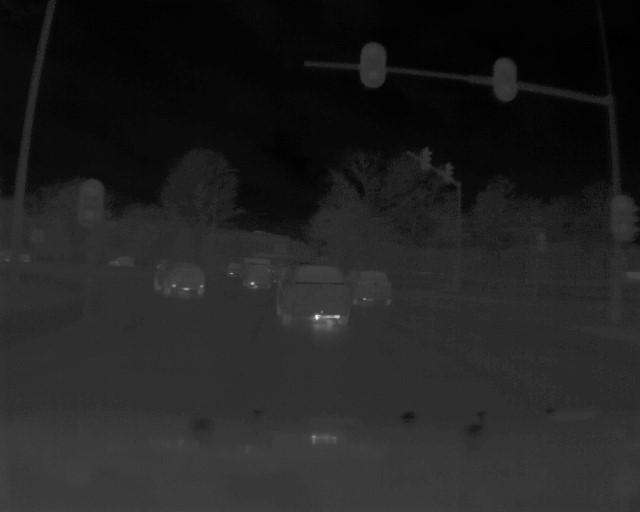car: (278, 266, 353, 327), (151, 253, 208, 304), (355, 266, 396, 307), (239, 256, 273, 294)
